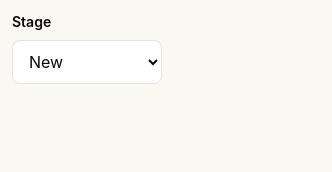
it: LeadStageSelect › explains when the move fails
Select "Won" in the dropdown labelled "Stage" at (87, 62), box top-left (12, 40), bottom-right (162, 84)
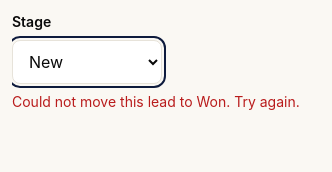
Result: the message reads "Could not move this lead to Won. Try again." at top-left (12, 93), bottom-right (300, 110)
